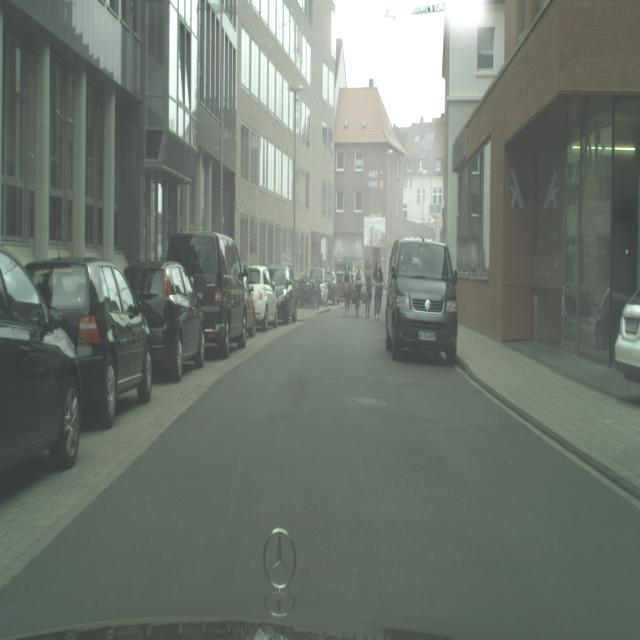person: (372, 259, 383, 321), (363, 259, 373, 318), (354, 262, 363, 317), (343, 266, 350, 316)
truck: (25, 254, 153, 429), (0, 246, 84, 474), (166, 232, 248, 359), (123, 260, 205, 381), (384, 236, 458, 366), (614, 287, 640, 382), (245, 265, 278, 332), (269, 264, 298, 324), (310, 268, 332, 306), (296, 276, 318, 308), (325, 268, 339, 305)
